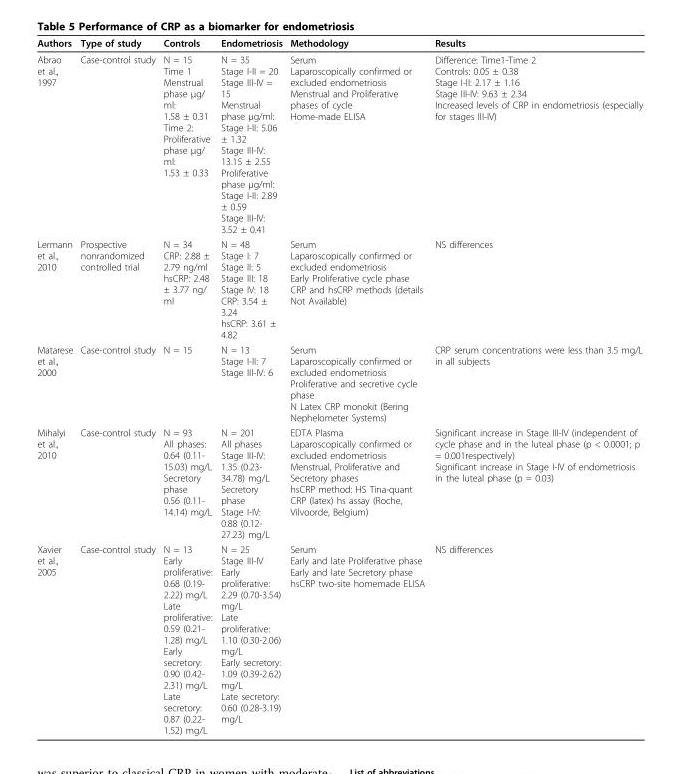table: (36, 36, 642, 735)
table column: (429, 36, 642, 735), (285, 36, 429, 735), (76, 36, 158, 735), (215, 36, 285, 735), (158, 36, 215, 735), (36, 36, 76, 735)
table column header: (36, 36, 642, 50)
table row: (36, 541, 642, 735), (36, 50, 642, 236), (36, 424, 642, 541), (36, 236, 642, 341), (36, 341, 642, 424), (36, 36, 642, 50)
